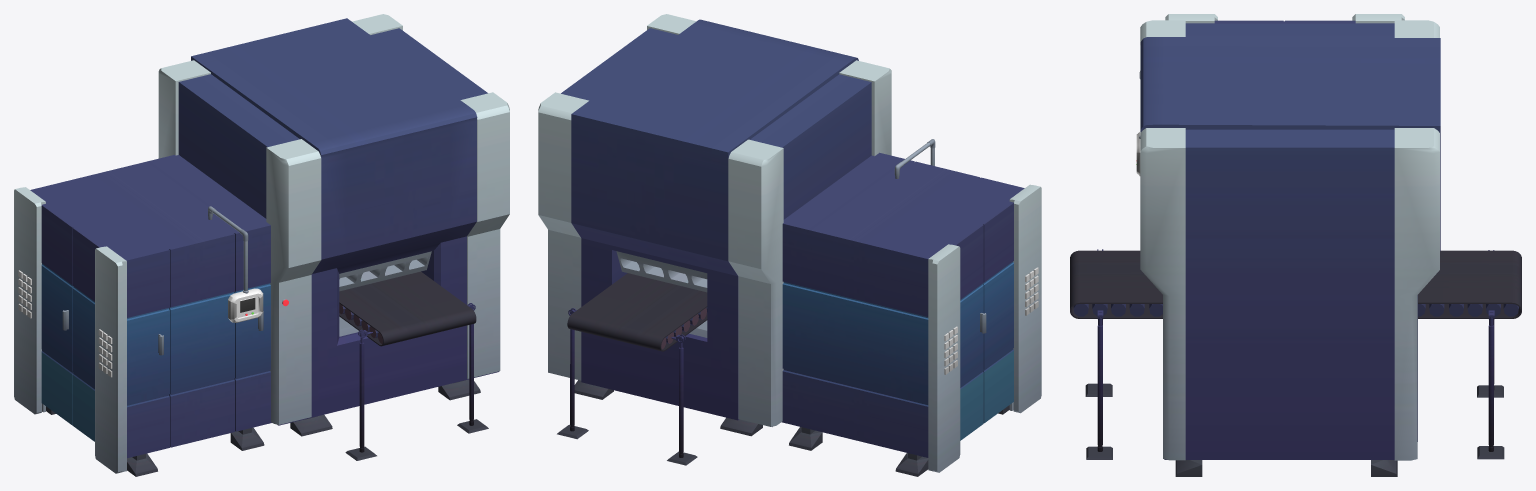
The model's file is Zhengpingji.glb.
The picture shows the model from 3 angles, left to right: view 1: azimuth 30°, elevation 25°; view 2: azimuth 150°, elevation 25°; view 3: azimuth 270°, elevation 25°; orthographic projection. The views are drawn at different scales.
Parts seen in each view (by area): view 1: Zhengpingji; view 2: Zhengpingji; view 3: Zhengpingji.
Part boxes in pixels (x1,y1,x2,y2): Zhengpingji: (14,14,509,476); Zhengpingji: (538,14,1041,476); Zhengpingji: (1070,14,1521,476).
Bounding box in the file's own units: 13.3 × 9.74 × 11.68.
2 materials, 2 textured.
